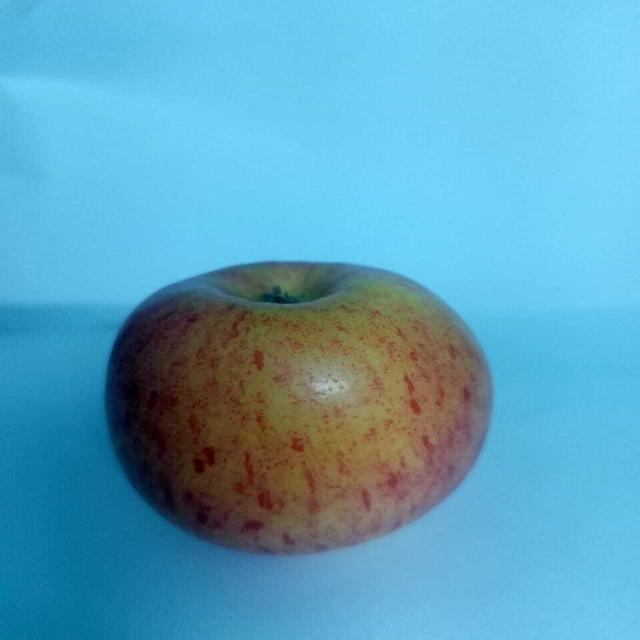fresh_apple: (102, 260, 492, 556)
